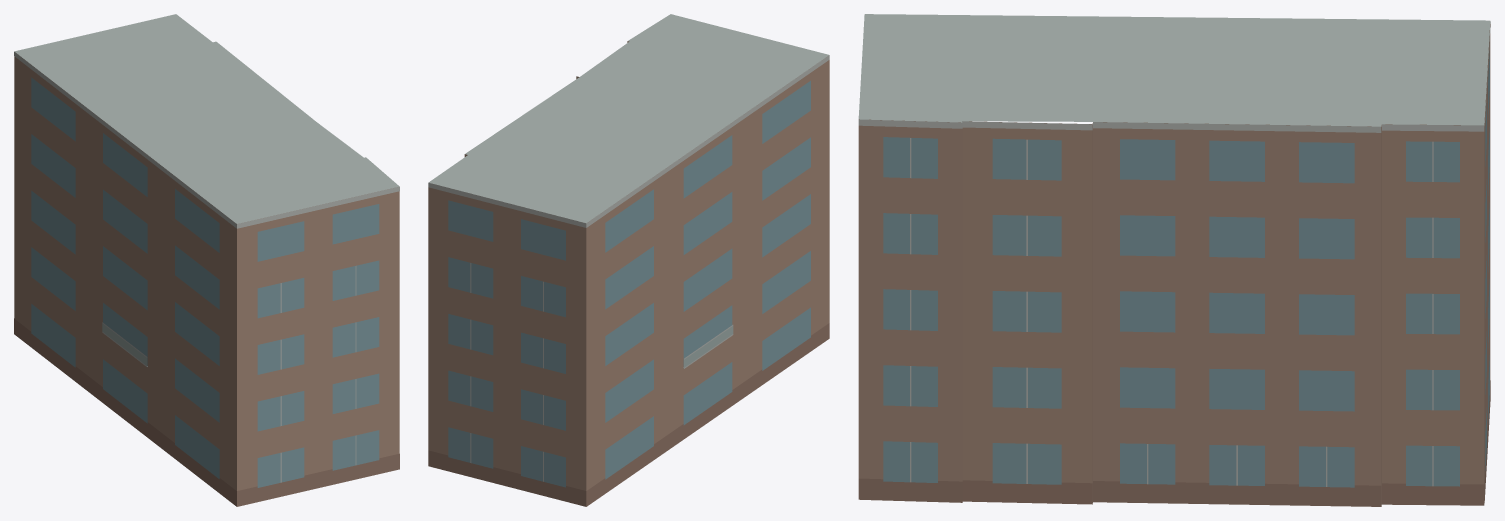
Rendered from survey-upis-32927489.glb.
The picture shows the model from 3 angles, left to right: view 1: azimuth 30°, elevation 25°; view 2: azimuth 150°, elevation 25°; view 3: azimuth 270°, elevation 25°; orthographic projection. The views are drawn at different scales.
Parts seen in each view (by area): view 1: survey-upis-32927489.tmp; view 2: survey-upis-32927489.tmp; view 3: survey-upis-32927489.tmp.
Boxes of the visible parts, <box> form: survey-upis-32927489.tmp: <box>14,14,399,506</box>; survey-upis-32927489.tmp: <box>428,14,829,506</box>; survey-upis-32927489.tmp: <box>858,14,1490,506</box>.
Bounding box in the file's own units: 9.38 × 14.75 × 22.22.
